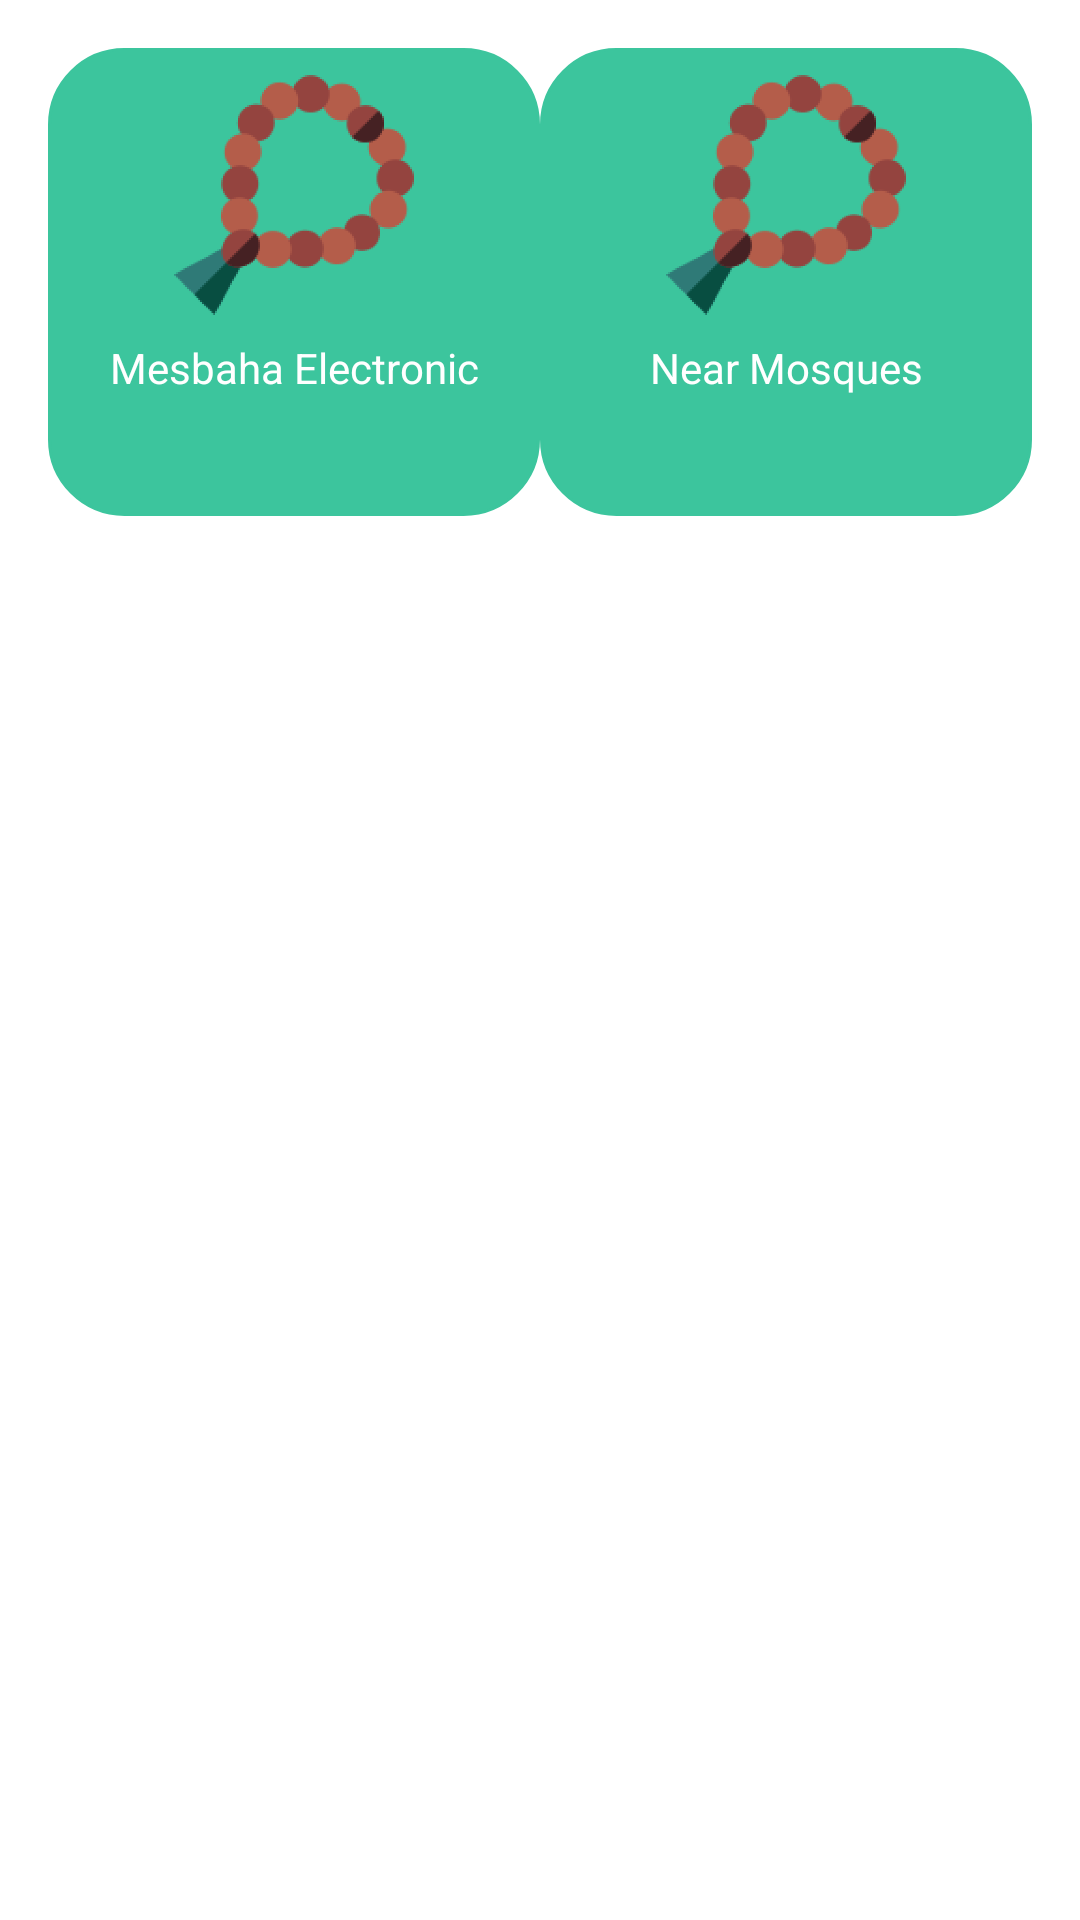

Icon bounding boxes for this 1080w x 1920h phone screenshot, format (x1, y1, x2, y2):
rosary: (174, 75, 414, 315), (666, 75, 906, 315)
